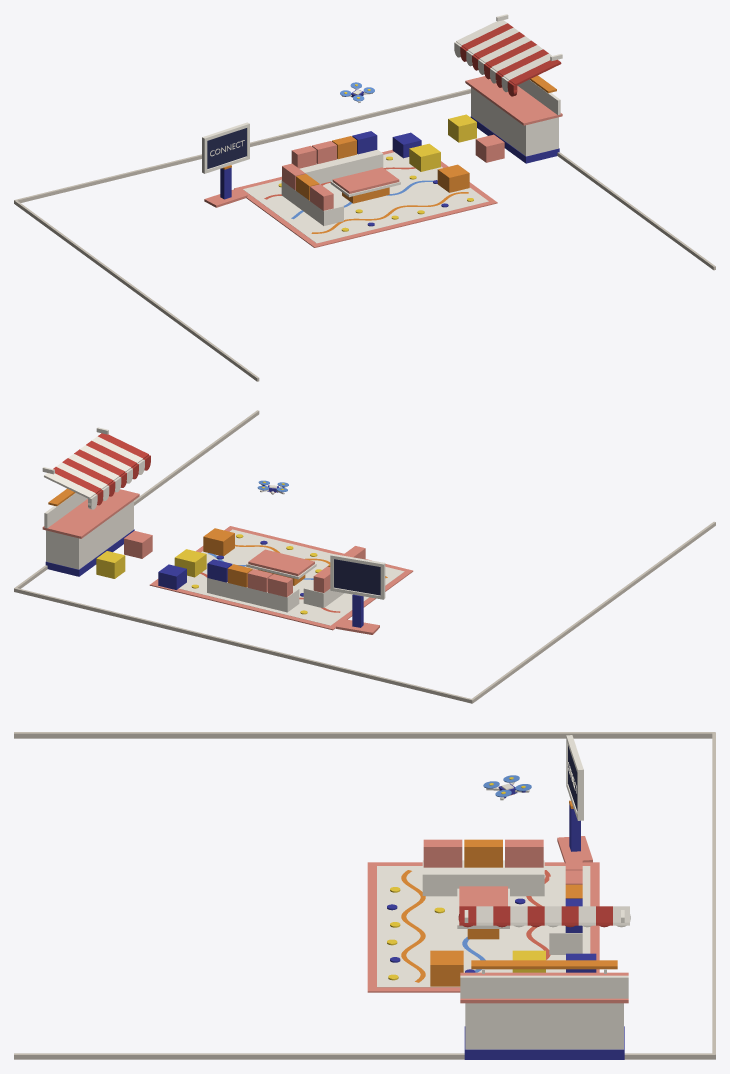
3 views of the same model, one above another, from view 1: azimuth 30°, elevation 25°; view 2: azimuth 150°, elevation 25°; view 3: azimuth 270°, elevation 25° (orthographic). The views are drawn at different scales.
Parts seen in each view (by area): view 1: Rug_Field.001, Counter_Body.001, Skirt_Back.001, Counter_Top.001, Rug_Border.001, Skirt_Left.001, BenchB_Seat.001, Screen_Panel.001, BenchA_Seat.001, Table_Top.001, Skirt_Right.001, Otto_1.001 (+5 smaller); view 2: Rug_Field.001, Counter_Body.001, Skirt_Back.001, Counter_Top.001, Rug_Border.001, Skirt_Left.001, BenchB_Seat.001, Screen_Panel.001, Table_Top.001, Skirt_Right.001, Otto_1.001, Stool_2.001 (+7 smaller); view 3: Rug_Field.001, Counter_Body.001, Skirt_Left.001, Counter_Splash.001, Skirt_Right.001, BenchA_Seat.001, Rug_Border.001, Counter_Kick.001, Counter_Top.001, Counter_Shelf.001, BenchB_Seat.001, Skirt_Back.001 (+7 smaller).
Part boxes in pixels (x1,y1,x2,y2): Rug_Field.001: (243,152,488,243); Counter_Body.001: (471,87,558,156); Skirt_Back.001: (14,88,470,202); Counter_Top.001: (465,76,562,125); Rug_Border.001: (234,149,497,247); Skirt_Left.001: (14,200,259,381); BenchB_Seat.001: (299,149,383,184); Screen_Panel.001: (207,128,246,168); BenchA_Seat.001: (281,180,343,225); Table_Top.001: (332,167,399,193); Skirt_Right.001: (557,152,715,270); Otto_1.001: (437,164,469,192); Rug_Field.001: (179,529,404,625); Counter_Body.001: (46,501,133,569); Skirt_Back.001: (14,587,472,703); Counter_Top.001: (42,489,139,538); Rug_Border.001: (149,526,413,630); Skirt_Left.001: (472,521,715,703); BenchB_Seat.001: (207,578,299,612); Screen_Panel.001: (334,559,380,595); Table_Top.001: (248,549,314,576); Skirt_Right.001: (14,410,259,588); Otto_1.001: (203,528,234,556); Stool_2.001: (96,551,125,578); Rug_Field.001: (377,866,590,987); Counter_Body.001: (465,1003,623,1049); Skirt_Left.001: (14,732,714,738); Counter_Splash.001: (460,975,628,998); Skirt_Right.001: (14,1053,715,1059); BenchA_Seat.001: (422,860,544,896); Rug_Border.001: (367,862,599,992); Counter_Kick.001: (464,1026,624,1059); Counter_Top.001: (460,972,628,1003); Counter_Shelf.001: (471,960,617,969); BenchB_Seat.001: (549,876,582,954); Skirt_Back.001: (712,732,715,1059).
Size of the model in its own units: 12.6 by 2.62 by 11.51.
